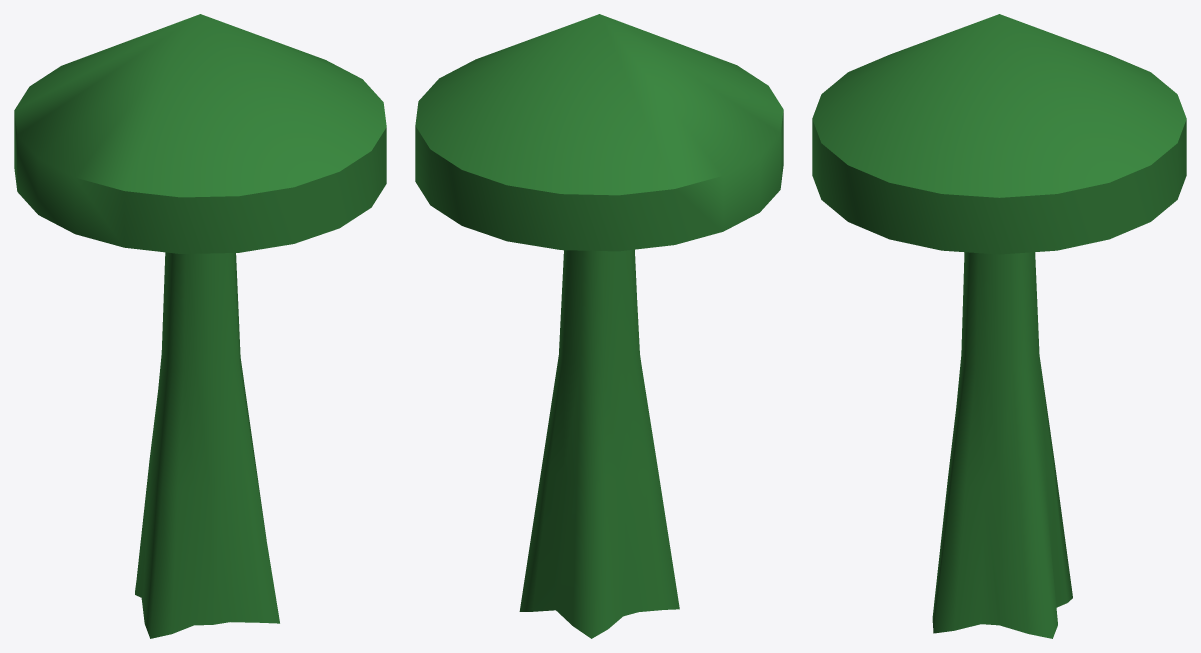
The model's file is Tree.obj.
3 views of the same model, side by side, from view 1: azimuth 30°, elevation 25°; view 2: azimuth 150°, elevation 25°; view 3: azimuth 270°, elevation 25° (orthographic).
Visible parts, largest first — view 1: pCylinder1; view 2: pCylinder1; view 3: pCylinder1.
Boxes of the visible parts, <box> form: pCylinder1: <box>14,14,386,638</box>; pCylinder1: <box>415,14,783,638</box>; pCylinder1: <box>812,14,1186,638</box>.
Size of the model in its own units: 5.31 by 9.37 by 5.31.
